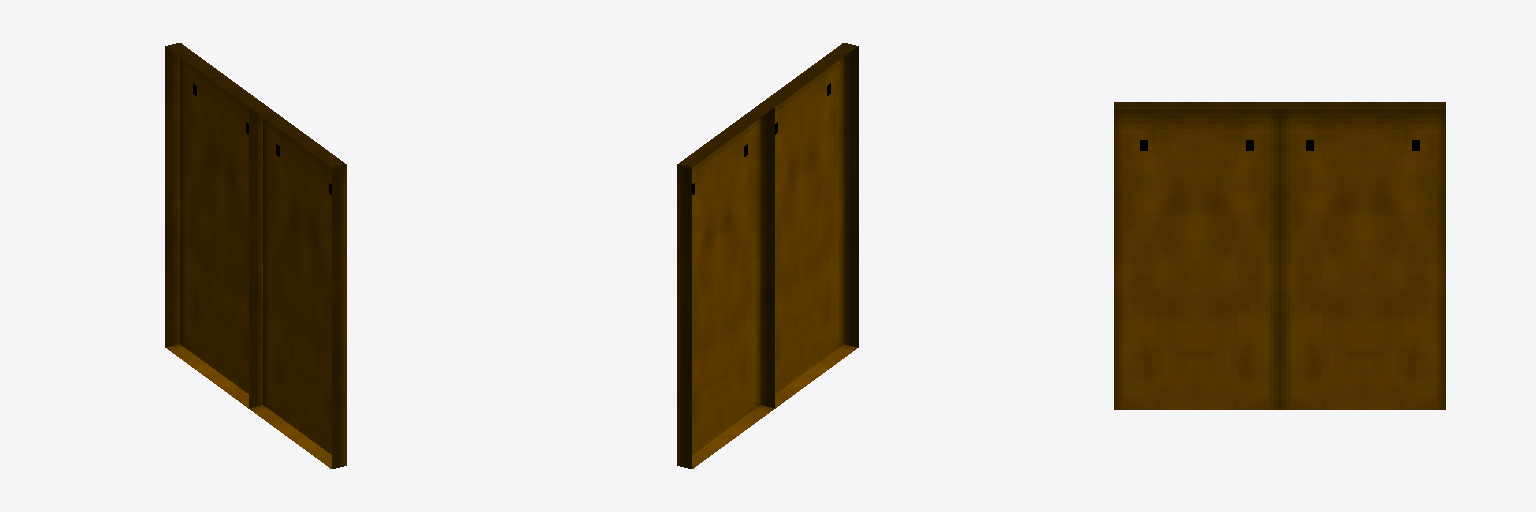
3 renders of one model, left to right at view 1: azimuth 30°, elevation 25°; view 2: azimuth 150°, elevation 25°; view 3: azimuth 270°, elevation 25°, orthographic.
Visible parts, largest first — view 1: Plane, Plane.001; view 2: Plane, Plane.001; view 3: Plane, Plane.001.
Boxes of the visible parts, x1=… form: Plane: x1=165, y1=43, x2=262, y2=408; Plane.001: x1=249, y1=103, x2=346, y2=468; Plane: x1=677, y1=103, x2=774, y2=468; Plane.001: x1=761, y1=43, x2=858, y2=408; Plane: x1=1280, y1=102, x2=1445, y2=409; Plane.001: x1=1114, y1=102, x2=1279, y2=409.
Bounding box in the file's own units: 0.1017 × 2 × 2.
Materials: 1 (1 with a texture image).